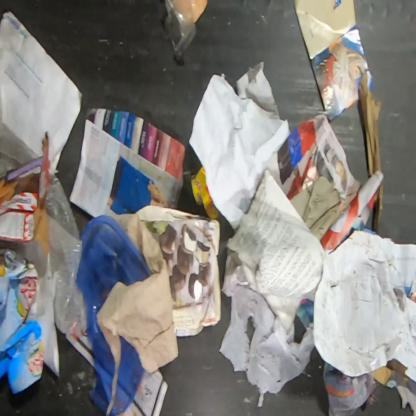cardboard: (69, 107, 186, 216), (136, 204, 222, 338), (0, 249, 45, 397), (0, 134, 48, 256)
rigid_plastic: (74, 214, 152, 414), (163, 0, 197, 63)
soft_plastic: (45, 170, 88, 332)
